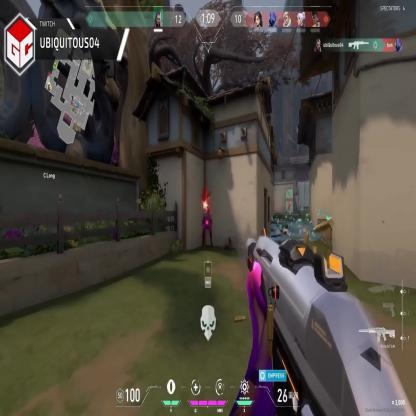enemy: (288, 200, 290, 214), (273, 200, 275, 213)
enemy_head: (288, 200, 290, 204), (273, 200, 275, 204)
